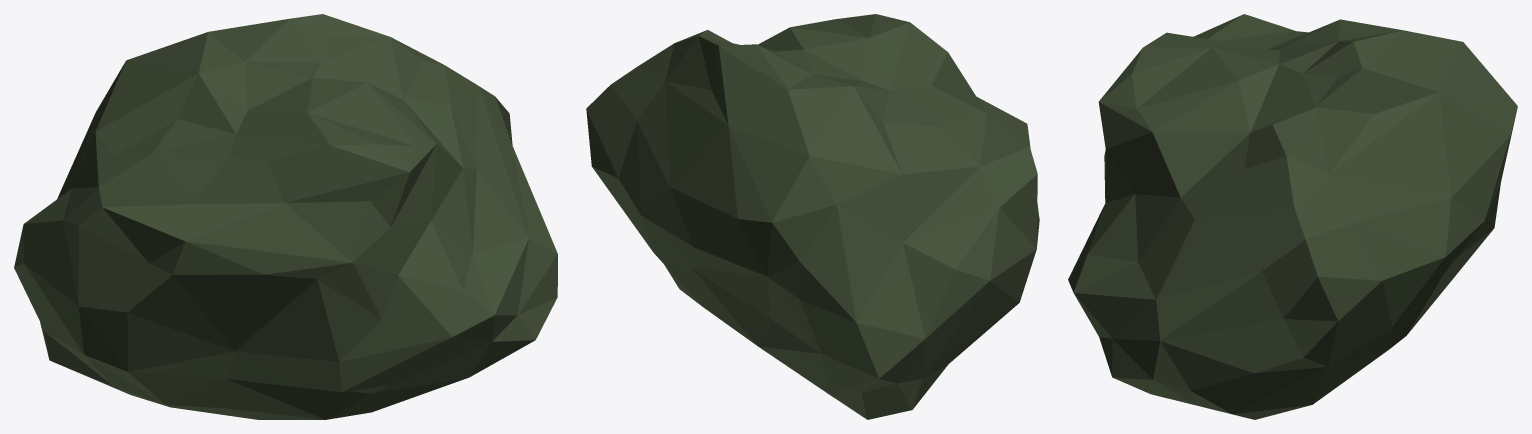
Rendered from S0.stone3.glb.
3 views of the same model, side by side, from view 1: azimuth 30°, elevation 25°; view 2: azimuth 150°, elevation 25°; view 3: azimuth 270°, elevation 25° (orthographic). The views are drawn at different scales.
Parts seen in each view (by area): view 1: Landscape.010; view 2: Landscape.010; view 3: Landscape.010.
Part boxes in pixels (<box>): Landscape.010: <box>14,14,557,419</box>; Landscape.010: <box>586,14,1039,419</box>; Landscape.010: <box>1068,14,1517,419</box>.
Size of the model in its own units: 2.35 by 1.74 by 1.94.
